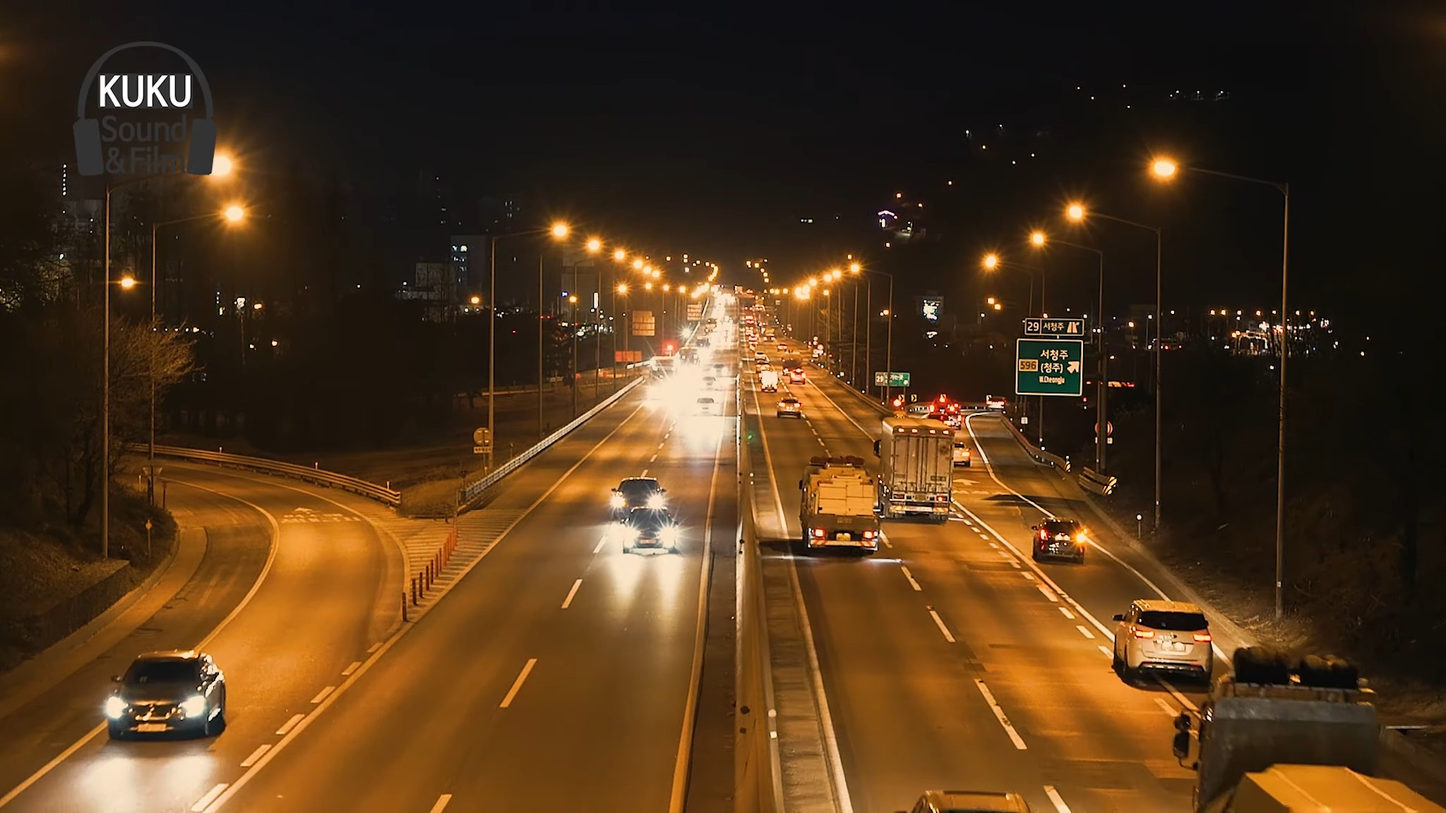car: (104, 650, 230, 747), (1116, 597, 1216, 683), (616, 508, 682, 556), (1029, 512, 1086, 567), (608, 477, 668, 526)
truck: (876, 411, 960, 521), (798, 456, 883, 560)
